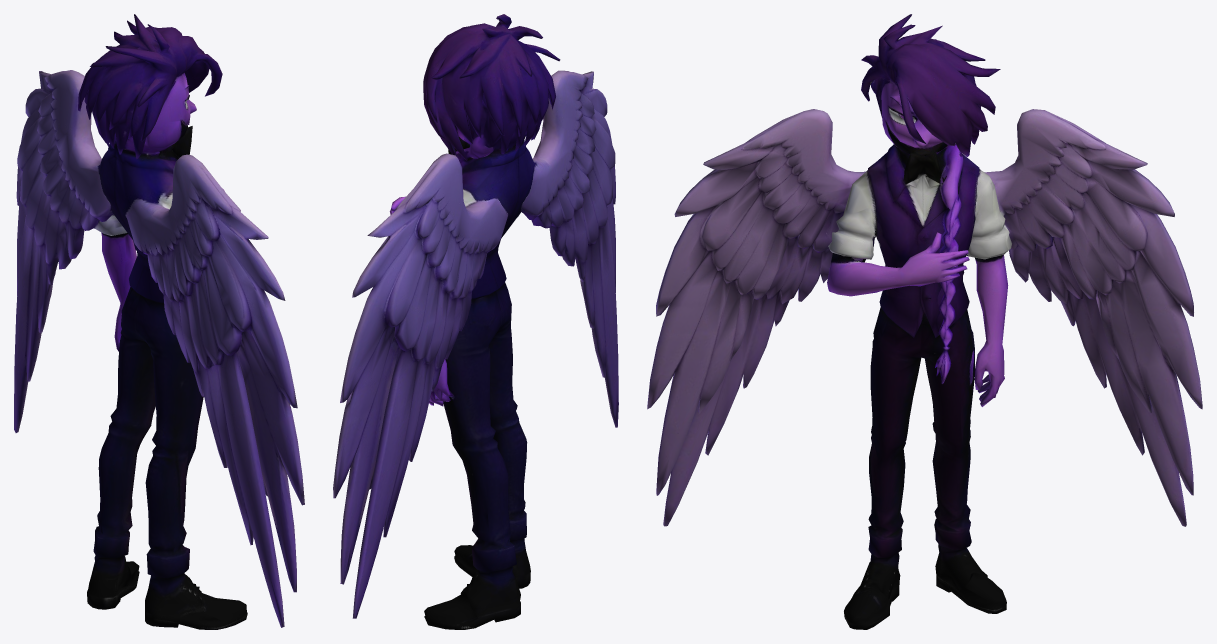
File: Purple.glb
3 renders of one model, left to right at view 1: azimuth 30°, elevation 25°; view 2: azimuth 150°, elevation 25°; view 3: azimuth 270°, elevation 25°, orthographic. The views are drawn at different scales.
Parts seen in each view (by area): view 1: tripo_node_49041702-00f9-4356-8203-4fe8589b3c99; view 2: tripo_node_49041702-00f9-4356-8203-4fe8589b3c99; view 3: tripo_node_49041702-00f9-4356-8203-4fe8589b3c99.
Boxes of the visible parts, <box> form: tripo_node_49041702-00f9-4356-8203-4fe8589b3c99: <box>14,14,304,629</box>; tripo_node_49041702-00f9-4356-8203-4fe8589b3c99: <box>333,14,618,629</box>; tripo_node_49041702-00f9-4356-8203-4fe8589b3c99: <box>647,14,1202,629</box>.
Size of the model in its own units: 0.2481 by 0.9825 by 0.8591.
Materials: 1 (1 with a texture image).
